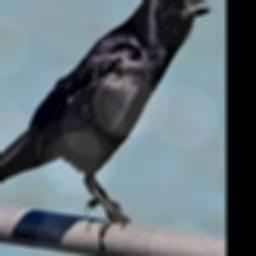Crow: (0, 0, 211, 235)
